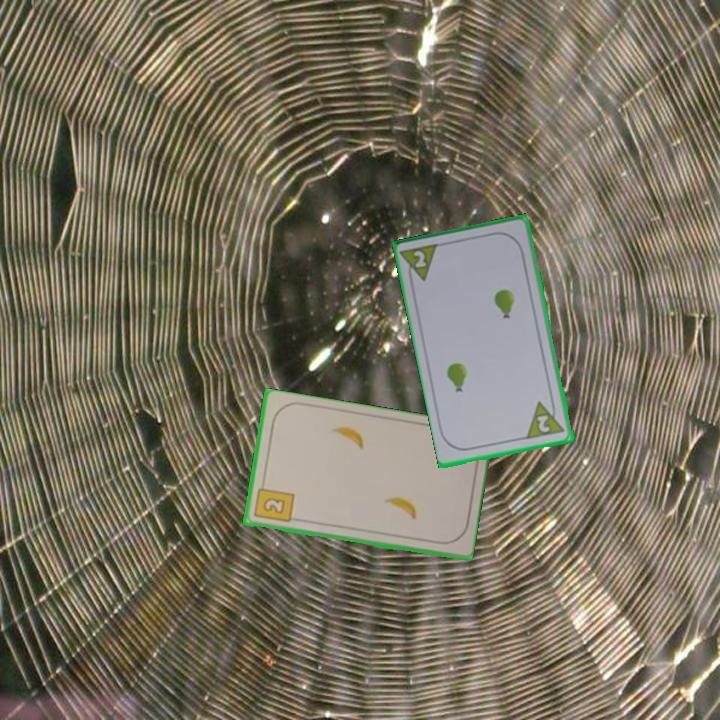2b: (250, 479, 296, 526)
2p: (398, 240, 442, 288), (533, 412, 553, 436)
